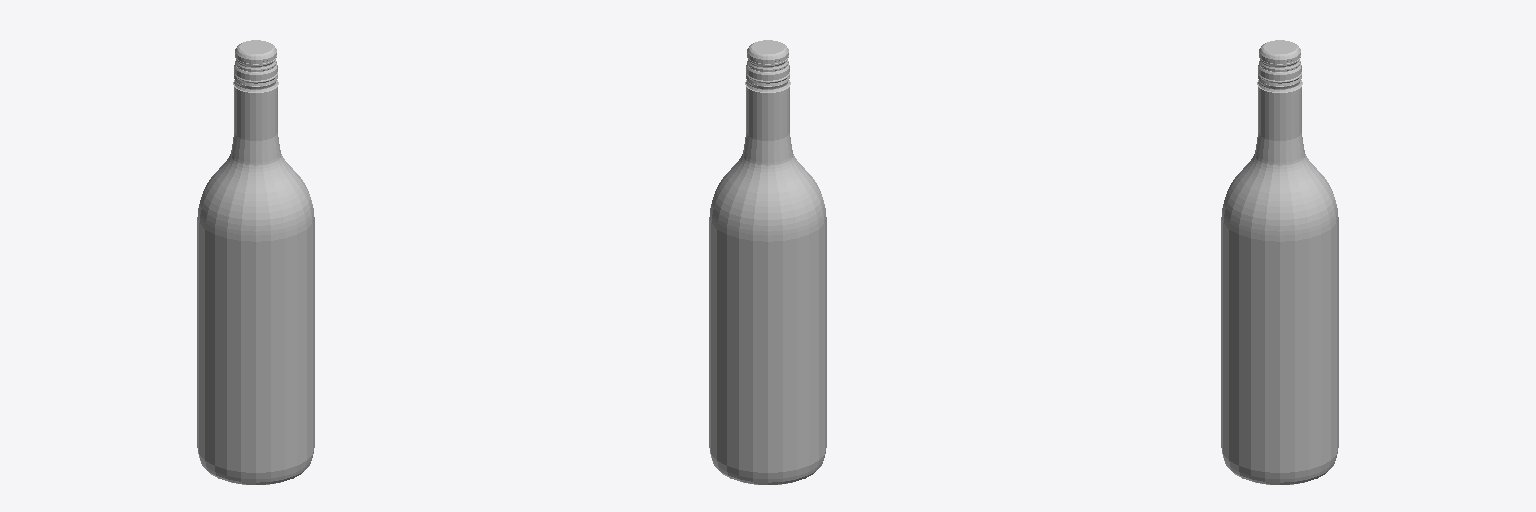
File: drinkable3.obj
3 views of the same model, side by side, from view 1: azimuth 30°, elevation 25°; view 2: azimuth 150°, elevation 25°; view 3: azimuth 270°, elevation 25° (orthographic).
Visible parts, largest first — view 1: group_0, group_0.001, group_0.002; view 2: group_0, group_0.001, group_0.002; view 3: group_0, group_0.001, group_0.002.
Part boxes in pixels (x1,y1,x2,y2): group_0: (197,133,314,484); group_0.001: (233,40,278,93); group_0.002: (234,87,277,140); group_0: (709,133,826,484); group_0.001: (745,40,790,93); group_0.002: (746,87,789,140); group_0: (1221,133,1338,484); group_0.001: (1257,40,1302,93); group_0.002: (1258,87,1301,140).
Bounding box in the file's own units: 1.92 × 7.57 × 1.92.